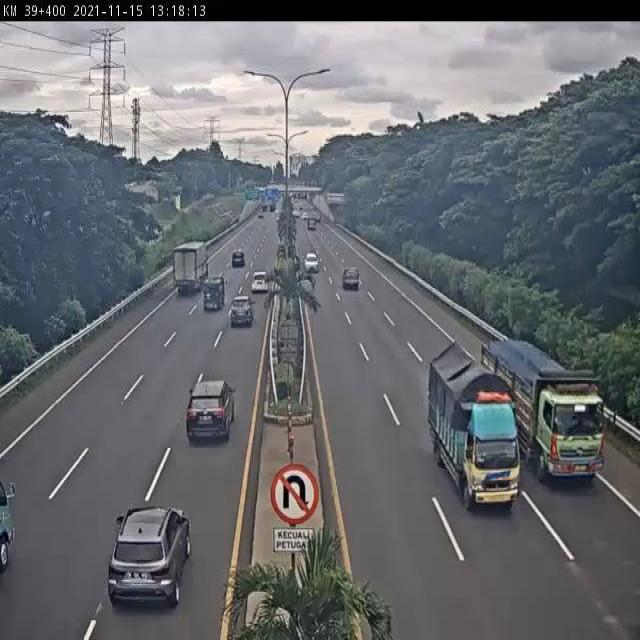car: (107, 506, 192, 606), (185, 377, 238, 447), (229, 294, 255, 329)
truck-l-: (521, 355, 627, 489)
truck-m-: (427, 338, 523, 514), (201, 275, 227, 313)
